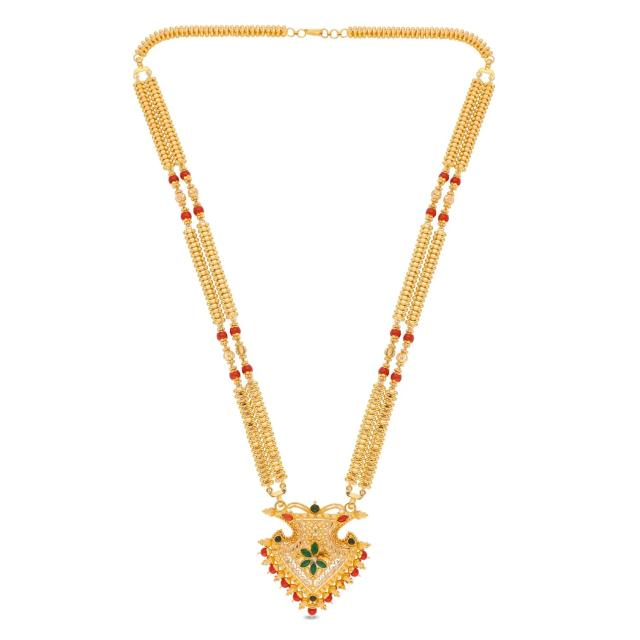missing gem: (318, 551, 330, 558), (339, 584, 347, 591)
